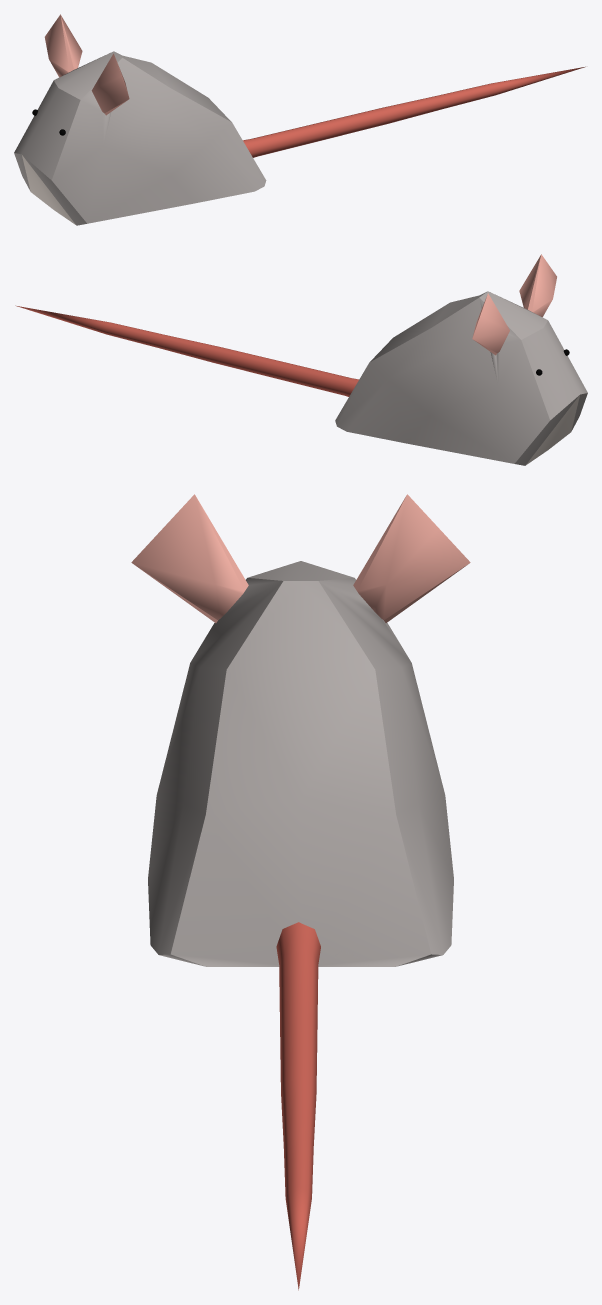
Rendered from shumoxing1.fbx.
3 views of the same model, one above another, from view 1: azimuth 30°, elevation 25°; view 2: azimuth 150°, elevation 25°; view 3: azimuth 270°, elevation 25° (orthographic). The views are drawn at different scales.
Parts seen in each view (by area): view 1: Box001, Cylinder001; view 2: Box001, Cylinder001; view 3: Box001, Cylinder001.
Boxes of the visible parts, x1,y1,x2,y2 form: Box001: (14,14,266,225); Cylinder001: (243,66,585,157); Box001: (335,254,587,465); Cylinder001: (15,305,358,396); Box001: (131,494,470,966); Cylinder001: (276,922,320,1290).
Bounding box in the file's own units: 5.81 × 1.66 × 1.51.
3 materials, 1 textured.
